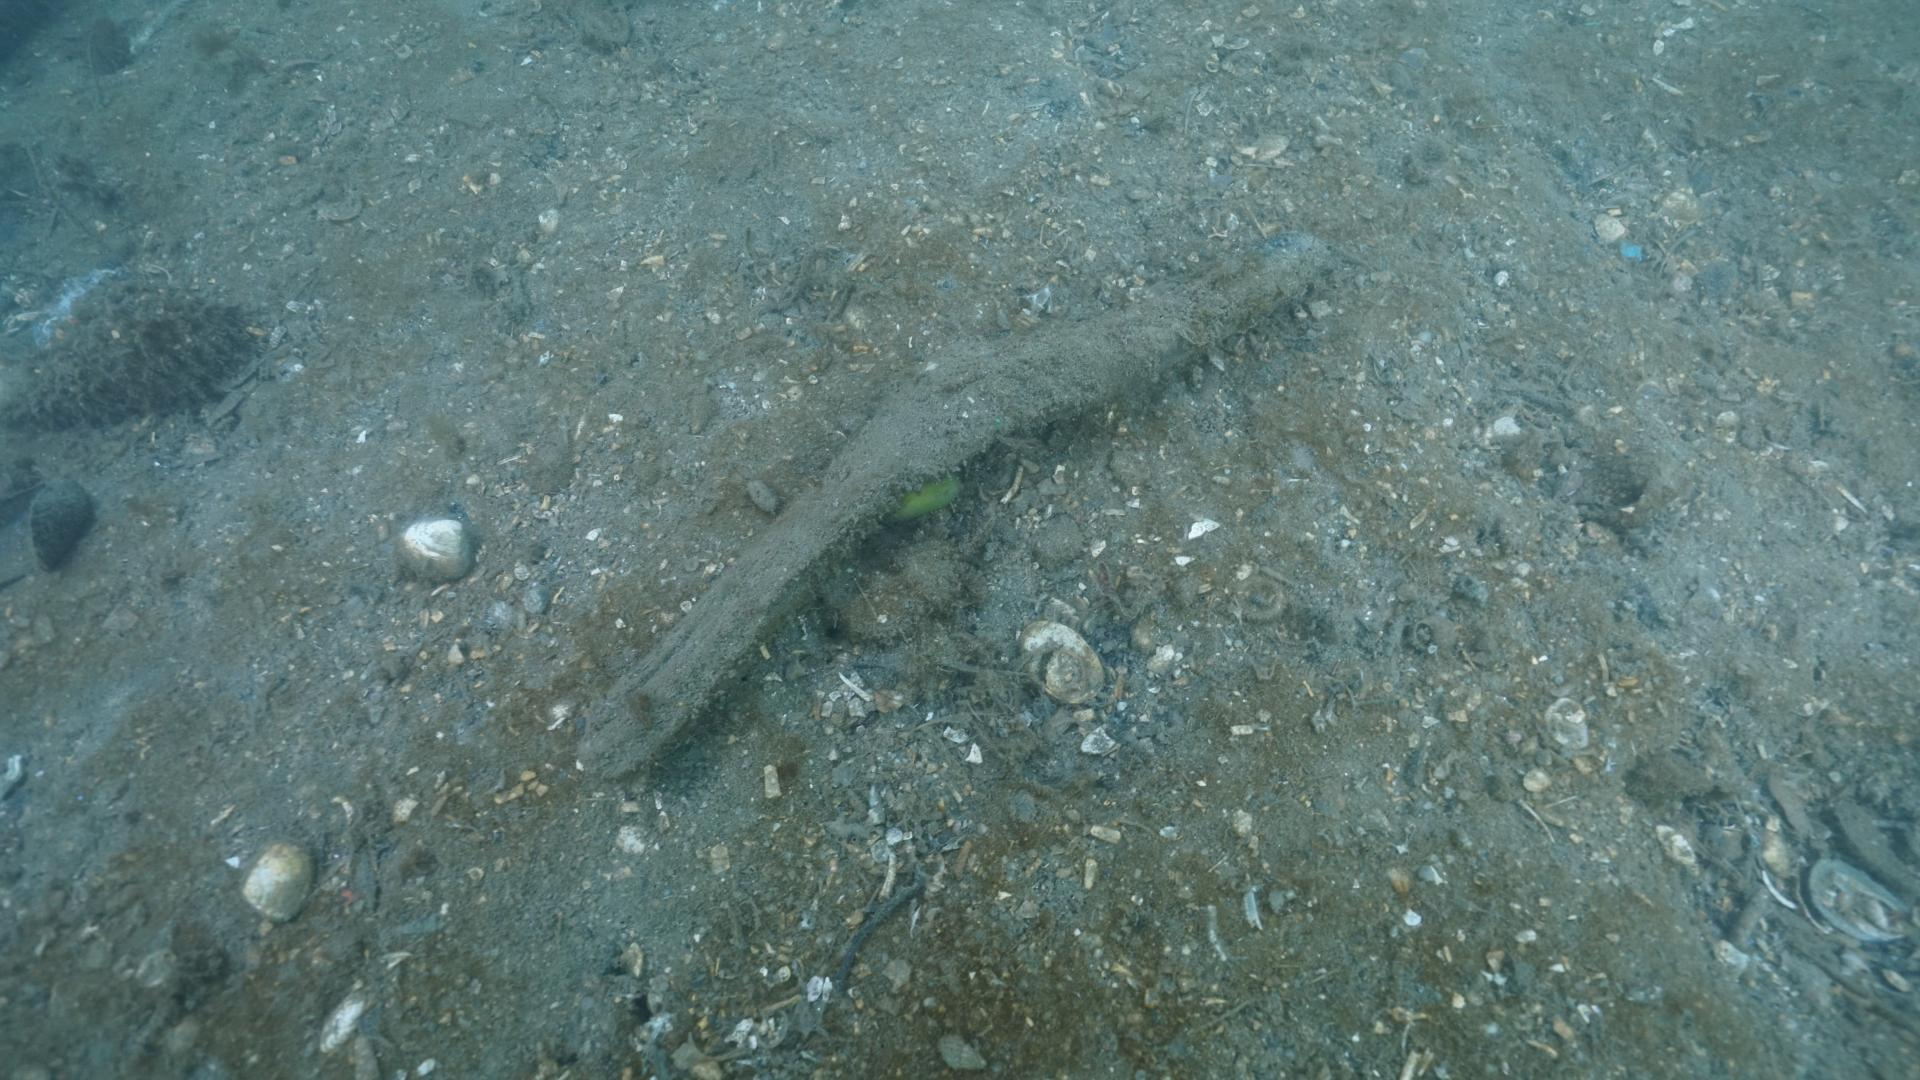wood: (574, 227, 1337, 775)
